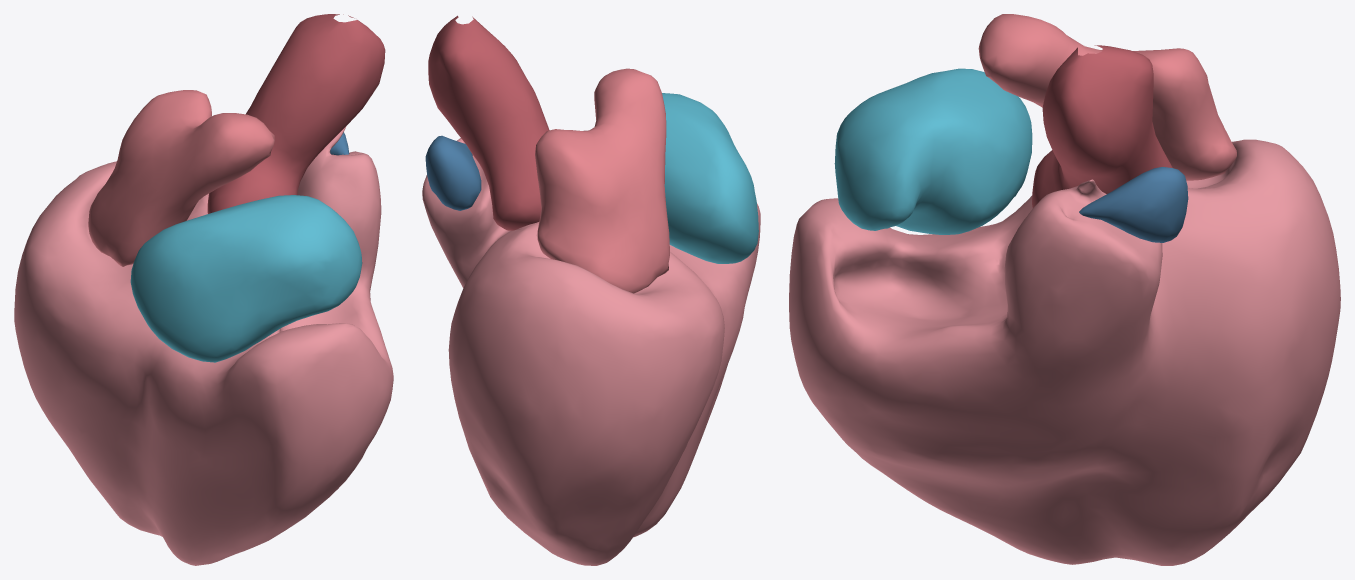
File: frame_9.glb
The picture shows the model from 3 angles, left to right: view 1: azimuth 30°, elevation 25°; view 2: azimuth 150°, elevation 25°; view 3: azimuth 270°, elevation 25°; orthographic projection. The views are drawn at different scales.
Parts seen in each view (by area): view 1: Renderer Node; view 2: Renderer Node; view 3: Renderer Node.
Boxes of the visible parts, <box> form: Renderer Node: <box>14,14,393,565</box>; Renderer Node: <box>422,15,760,565</box>; Renderer Node: <box>789,14,1340,565</box>.
Bounding box in the file's own units: 108 × 164 × 135.
